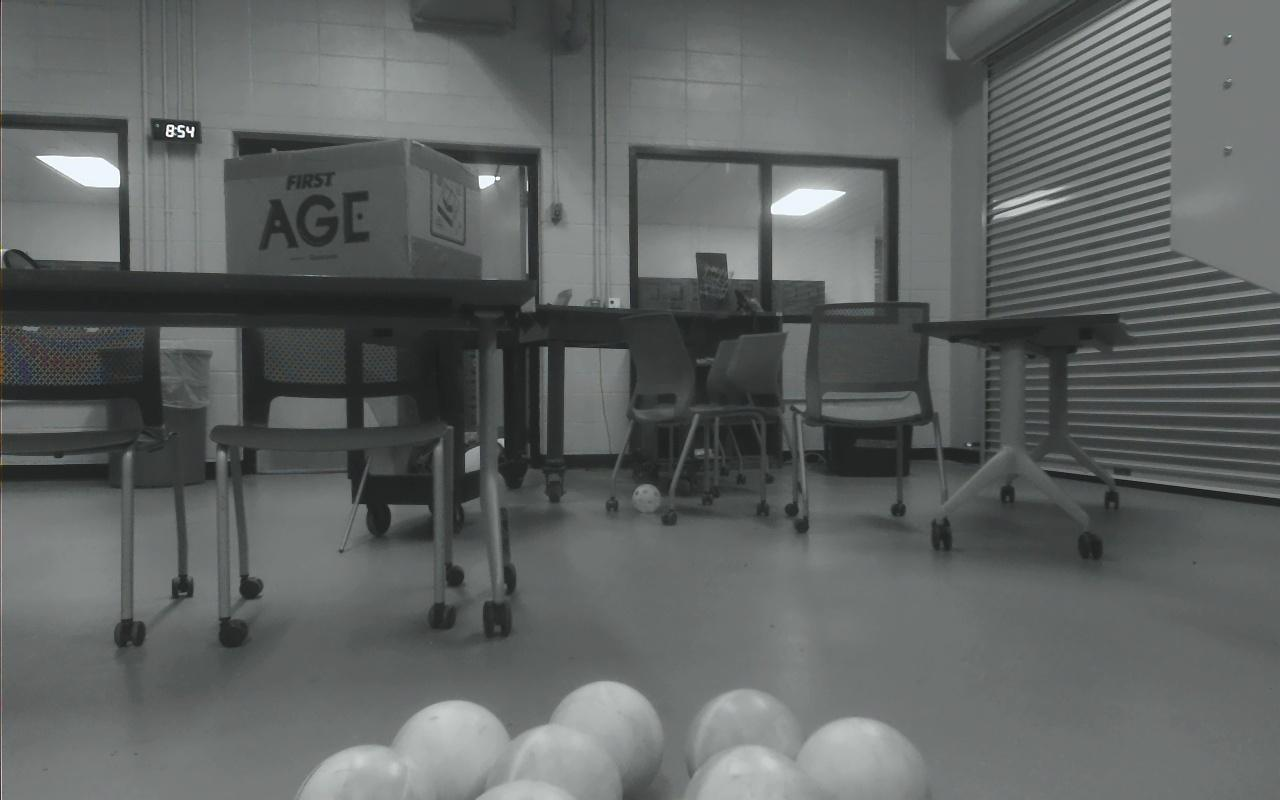Fuel: (548, 678, 666, 797), (390, 699, 511, 800), (794, 716, 932, 800), (685, 686, 805, 781), (484, 722, 623, 800), (293, 742, 436, 800), (684, 742, 827, 800), (475, 778, 579, 800)
